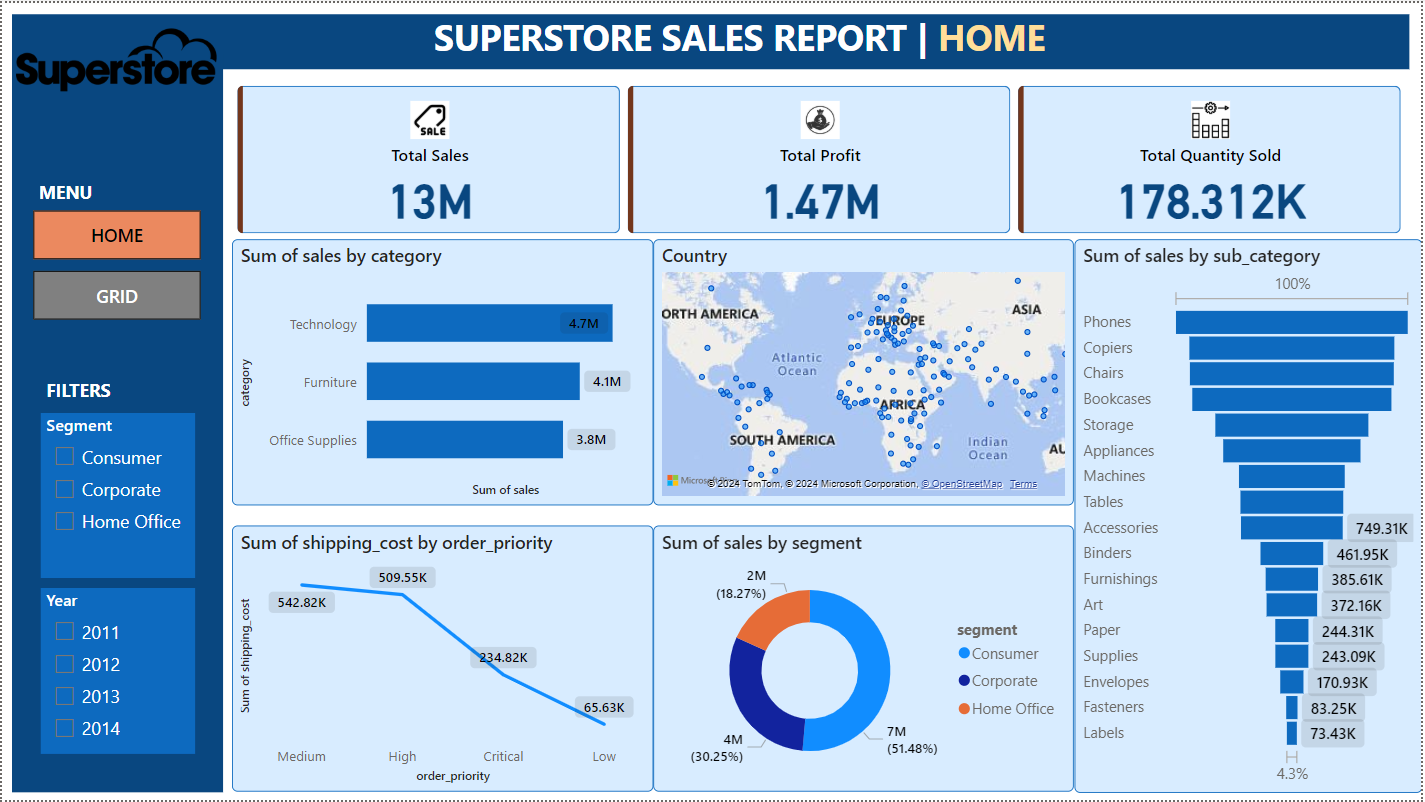

What the dashboard file says about the page in this screenshot:
{"tool":"powerbi","page":{"name":"HOME","canvas":[1280,720],"ordinal":0},"visuals":[{"type":"shape","box":[8.7,10,1260.1,49.8],"z":0},{"type":"shape","box":[8.7,46,190.3,665.5],"z":1000},{"type":"cardVisual","fields":{"Data":["SuperStoreOrders.Total Sales","SuperStoreOrders.Total Profit","SuperStoreOrders.Total Quantity Sold"]},"box":[207.7,69.7,1061.1,143.1],"z":2000},{"type":"textbox","box":[384.3,4.5,610.9,65.4],"z":3000},{"type":"barChart","fields":{"Y":["Sum(SuperStoreOrders.sales)"],"Category":["SuperStoreOrders.category"]},"box":[207.7,212.7,380,240],"z":4000},{"type":"map","title":"Country","fields":{"Category":["SuperStoreOrders.country"]},"box":[587.1,212.7,379.4,240.1],"z":5000},{"type":"lineChart","fields":{"Y":["Sum(SuperStoreOrders.shipping_cost)"],"Category":["SuperStoreOrders.order_priority"]},"box":[207.7,471.5,380,240.1],"z":6000},{"type":"donutChart","fields":{"Y":["Sum(SuperStoreOrders.sales)"],"Category":["SuperStoreOrders.segment"]},"box":[587.1,471.5,379.4,240.1],"z":7000},{"type":"funnel","fields":{"Y":["Sum(SuperStoreOrders.sales)"],"Category":["SuperStoreOrders.sub_category"]},"box":[966.6,212.7,313.5,498.8],"z":8000},{"type":"slicer","title":"Year","fields":{"Values":["Date Table.Year"]},"box":[34.8,527.4,139.3,149.3],"z":9000},{"type":"slicer","title":"Segment","fields":{"Values":["SuperStoreOrders.segment"]},"box":[34.9,369.8,139.5,148.8],"z":10000},{"type":"image","box":[8.1,10.5,190.7,82.6],"z":11000},{"type":"pageNavigator","box":[28.6,186.6,151.8,98.3],"z":12000},{"type":"textbox","box":[28.6,154.3,116.9,32.3],"z":13000},{"type":"textbox","box":[34.8,332.1,110.7,37.3],"z":14000}]}

Visuals, with their boxes in screenshot pixels (x1, y1, x2, y2), scaled from the page's 1280x720 canvas onto the 1425x802 screenshot:
shape: 10, 11, 1413, 67
shape: 10, 51, 222, 793
cardVisual - SuperStoreOrders.Total Sales x SuperStoreOrders.Total Profit: 231, 78, 1413, 237
textbox: 428, 5, 1108, 78
barChart - Sum(SuperStoreOrders.sales) x SuperStoreOrders.category: 231, 237, 654, 504
"Country" map: 654, 237, 1076, 504
lineChart - Sum(SuperStoreOrders.shipping_cost) x SuperStoreOrders.order_priority: 231, 525, 654, 793
donutChart - Sum(SuperStoreOrders.sales) x SuperStoreOrders.segment: 654, 525, 1076, 793
funnel - Sum(SuperStoreOrders.sales) x SuperStoreOrders.sub_category: 1076, 237, 1424, 793
"Year" slicer: 39, 587, 194, 754
"Segment" slicer: 39, 412, 194, 578
image: 9, 12, 221, 104
pageNavigator: 32, 208, 201, 317
textbox: 32, 172, 162, 208
textbox: 39, 370, 162, 411
